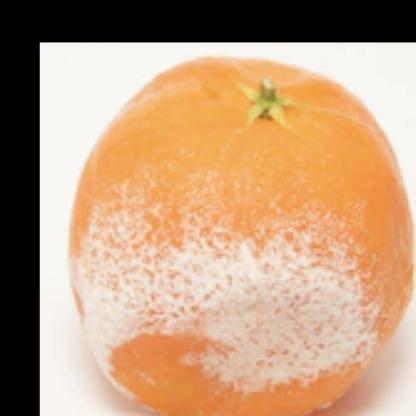rotten: (69, 54, 416, 414)
